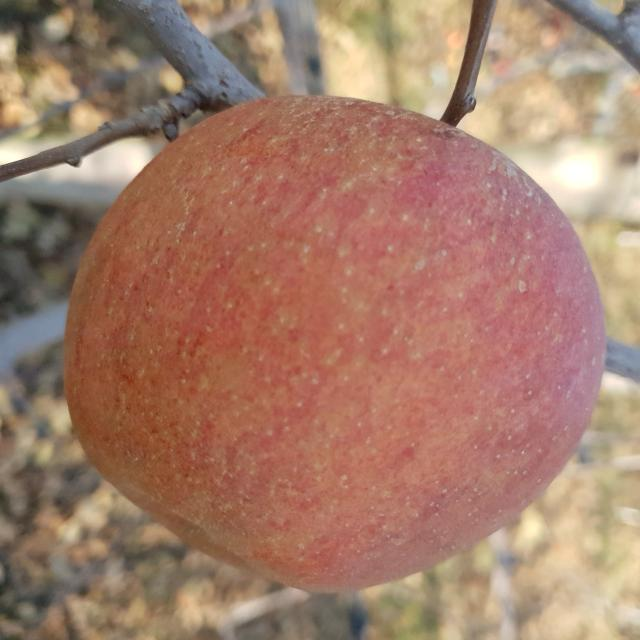fresh: (52, 84, 619, 607)
